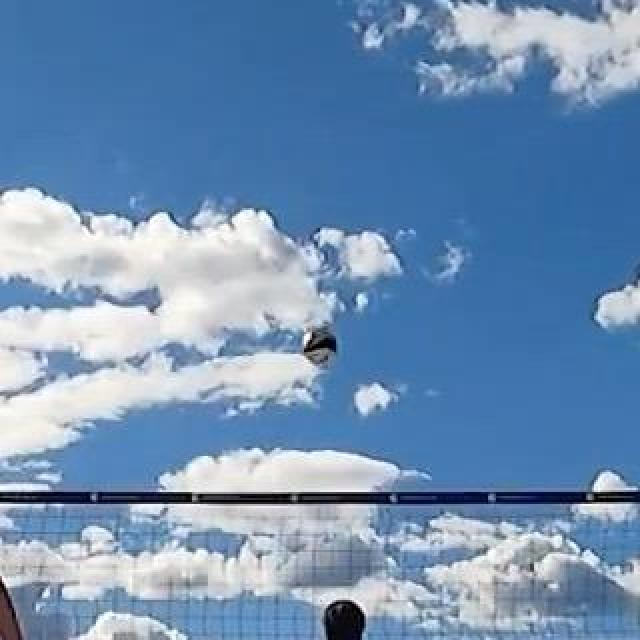volleyball: (301, 327, 337, 363)
